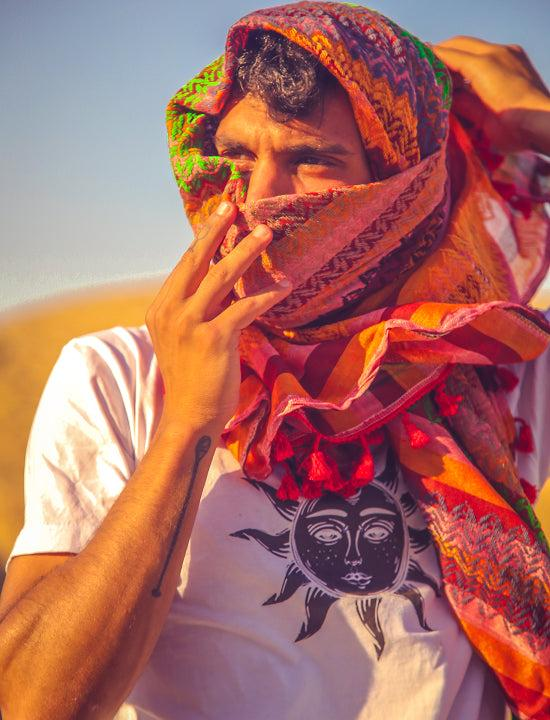scarf-kerchief: (104, 0, 530, 494)
sunglasses: (549, 24, 550, 38)
